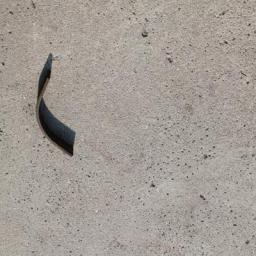FOD: (34, 54, 83, 161)
